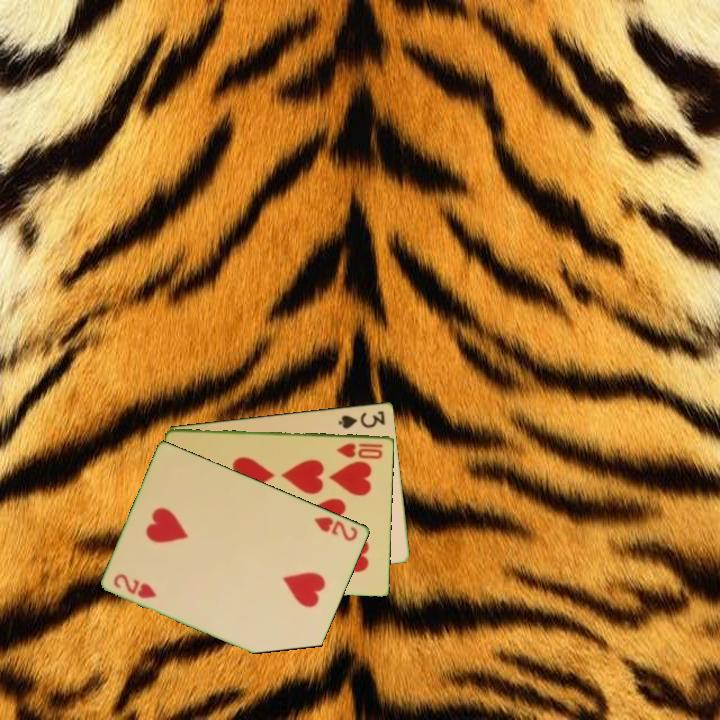10h: (333, 439, 386, 461)
2h: (311, 513, 361, 544), (110, 570, 160, 601)
3s: (335, 407, 388, 431)
